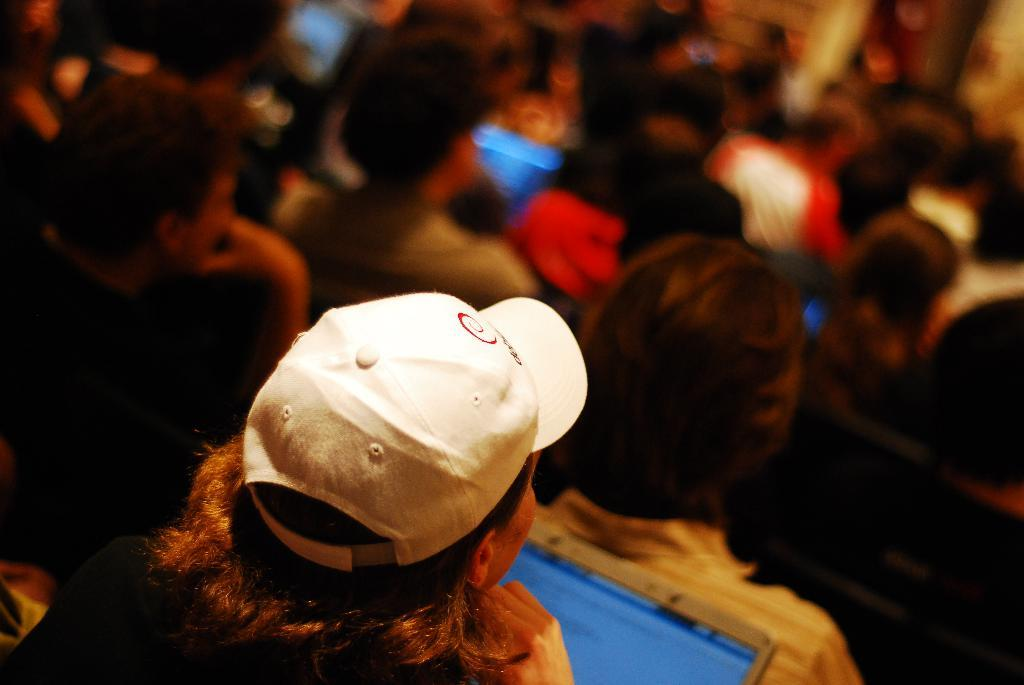Hat: (210, 282, 598, 590)
